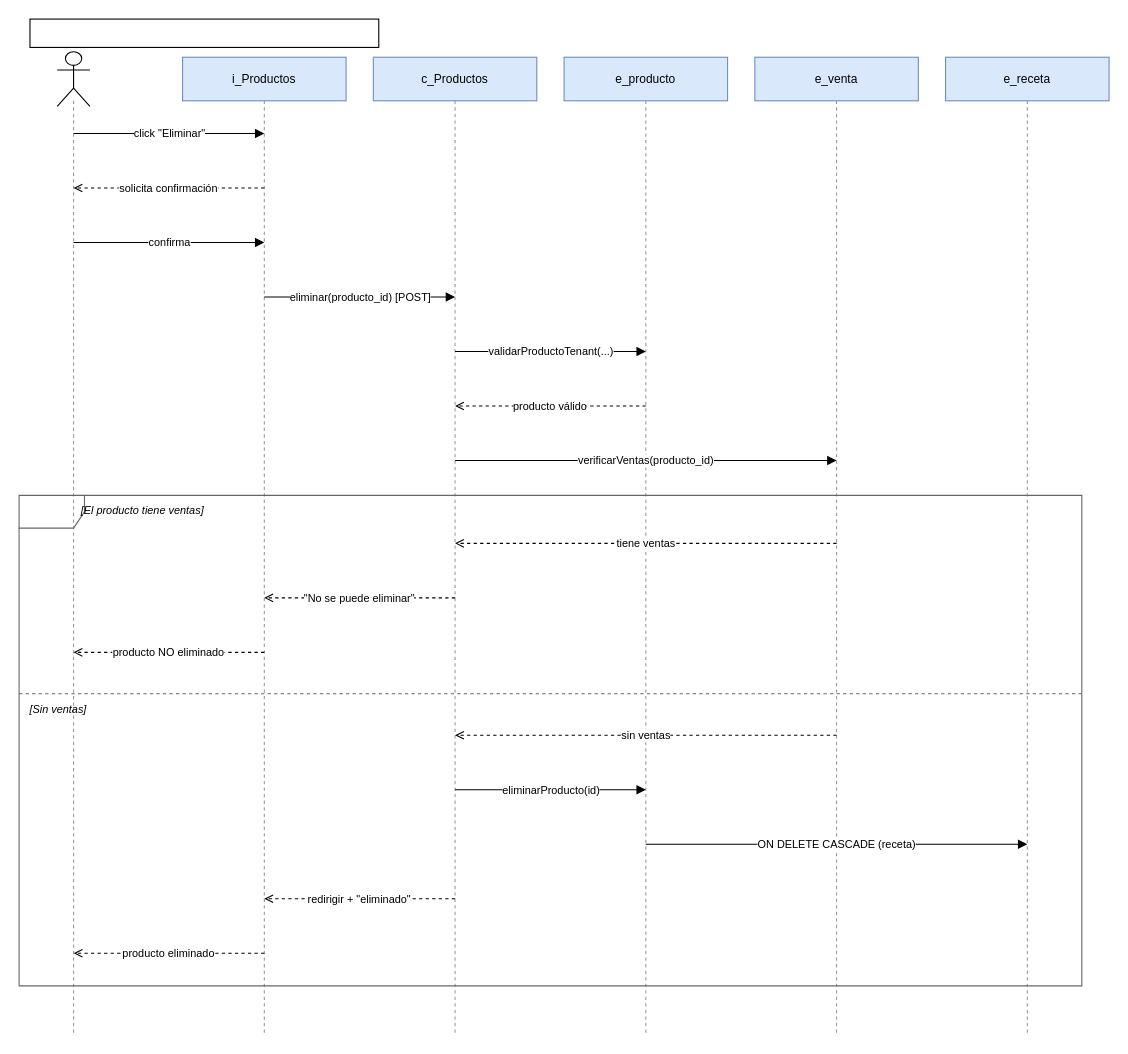
This 1128x1054 diagram has some shape labels left out. The box of each missing label's shape, as (x1, y1, x2, y2) in pixels:
Administrador: (56, 51, 90, 106)
alt: (18, 494, 1082, 986)
Secuencia - Eliminar Producto (CU-25): (29, 18, 379, 47)
